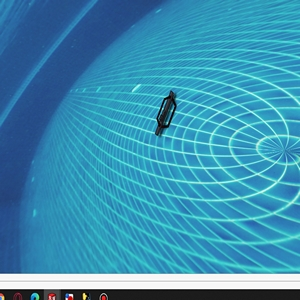submarine: (153, 90, 176, 132)
